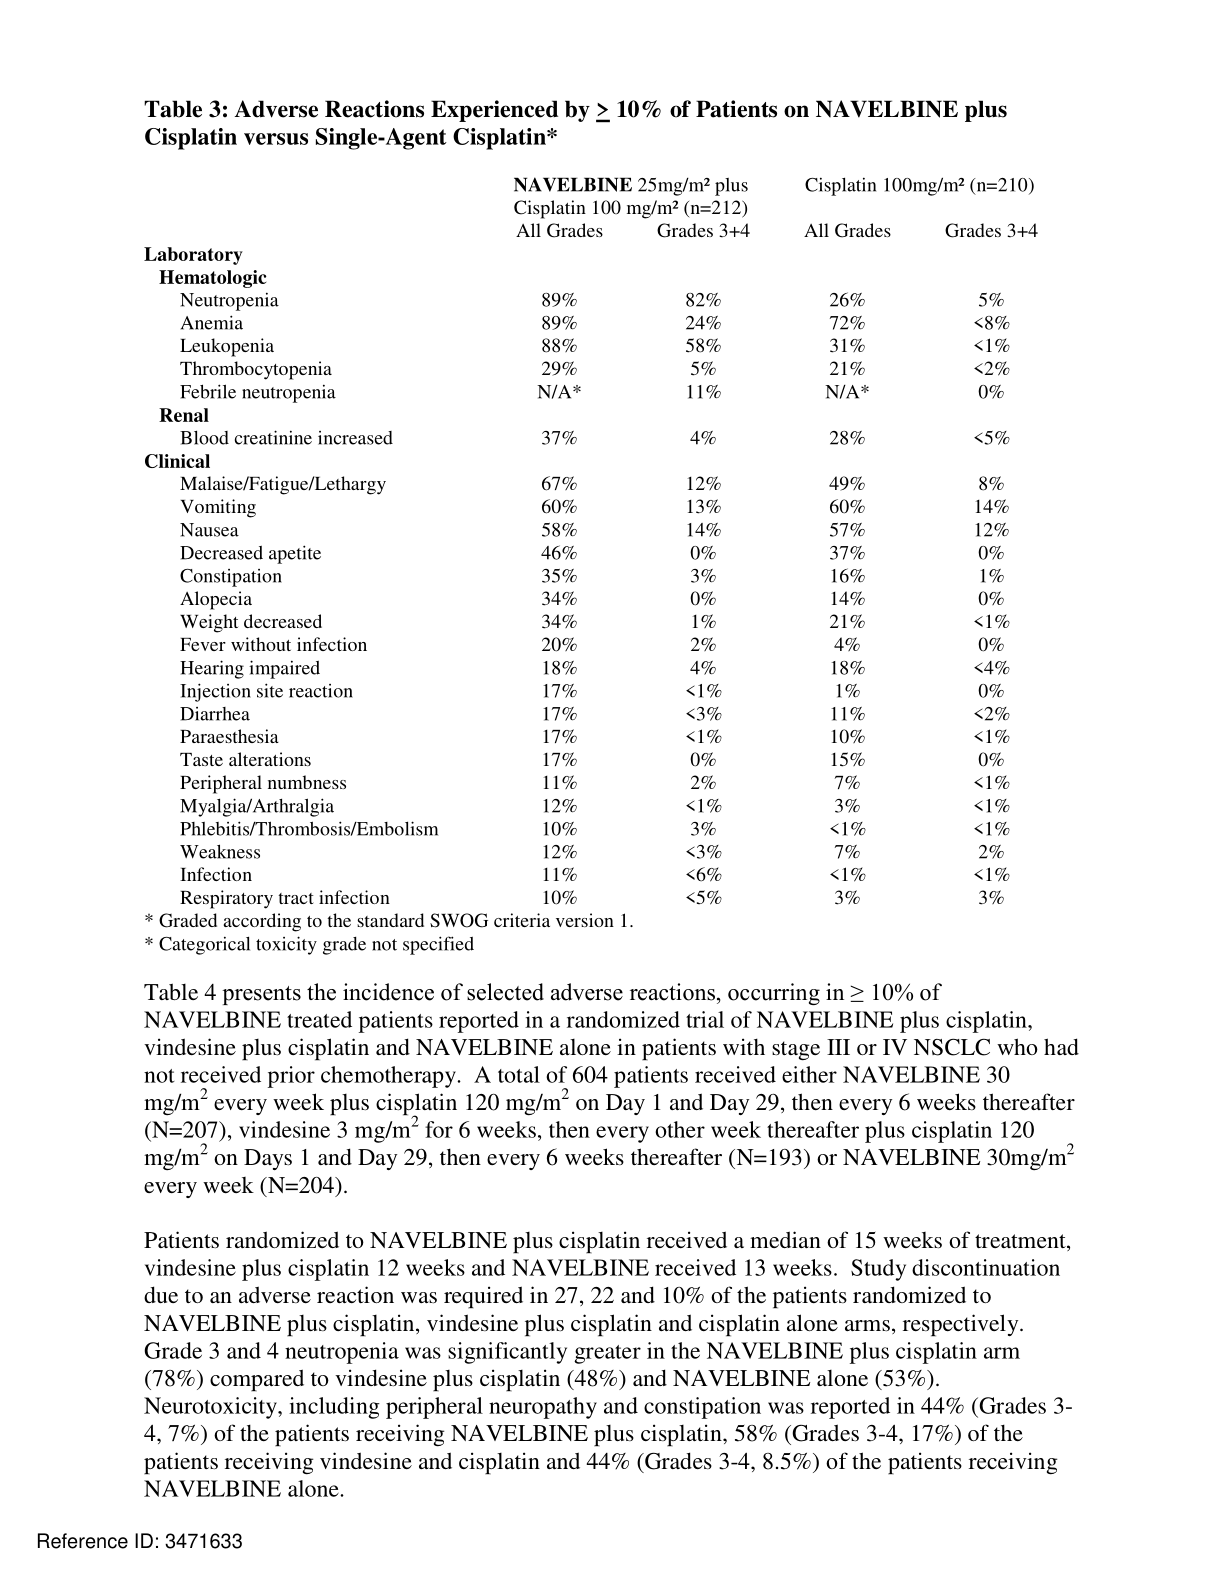nolines: (144, 175, 1041, 912)
